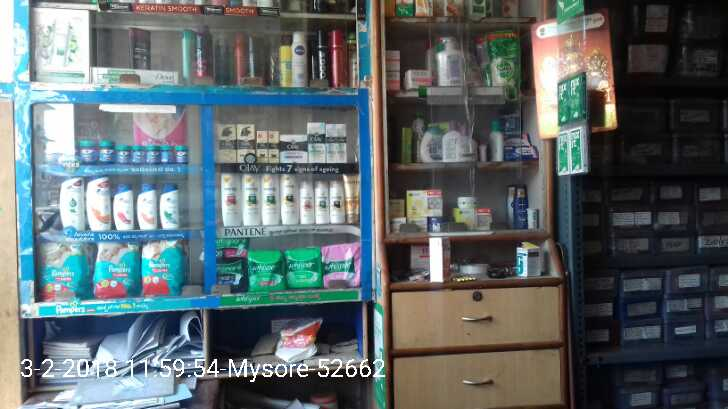beauty: (85, 175, 115, 233), (59, 175, 86, 234), (112, 182, 135, 232), (239, 172, 259, 228), (137, 182, 159, 231), (159, 183, 181, 230), (219, 174, 238, 226), (281, 172, 299, 226), (261, 174, 279, 227), (280, 132, 307, 163), (328, 178, 346, 224), (326, 123, 347, 162), (307, 120, 326, 163), (346, 175, 362, 225), (217, 124, 237, 163), (313, 181, 330, 224), (300, 171, 312, 225), (237, 123, 254, 160), (255, 128, 268, 165), (266, 131, 279, 165)
pharmacy: (35, 244, 88, 300), (140, 237, 185, 297), (91, 243, 139, 297), (320, 246, 364, 288), (284, 251, 323, 291), (247, 251, 285, 289), (78, 140, 97, 164), (101, 139, 113, 165), (133, 141, 146, 163), (116, 142, 129, 164), (159, 144, 172, 164), (176, 144, 187, 163), (148, 145, 154, 162)
